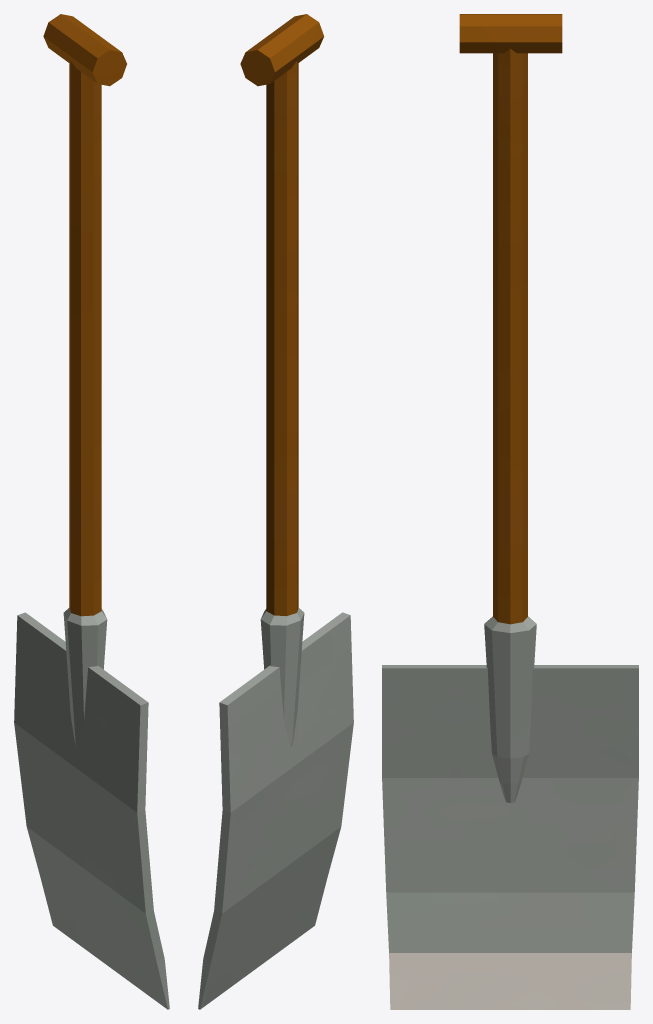
The model's file is mod_tool_spade.fbx.
3 renders of one model, left to right at view 1: azimuth 30°, elevation 25°; view 2: azimuth 150°, elevation 25°; view 3: azimuth 270°, elevation 25°, orthographic. The views are drawn at different scales.
Parts seen in each view (by area): view 1: Cylinder; view 2: Cylinder; view 3: Cylinder.
Boxes of the visible parts, x1=… form: Cylinder: x1=14, y1=14, x2=169, y2=1009; Cylinder: x1=198, y1=14, x2=353, y2=1009; Cylinder: x1=382, y1=14, x2=638, y2=1009.
Bounding box in the file's own units: 2.2 × 43.93 × 10.41.
